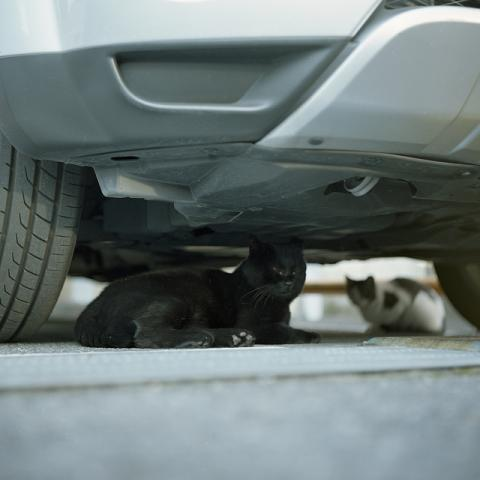car: (1, 0, 479, 346)
